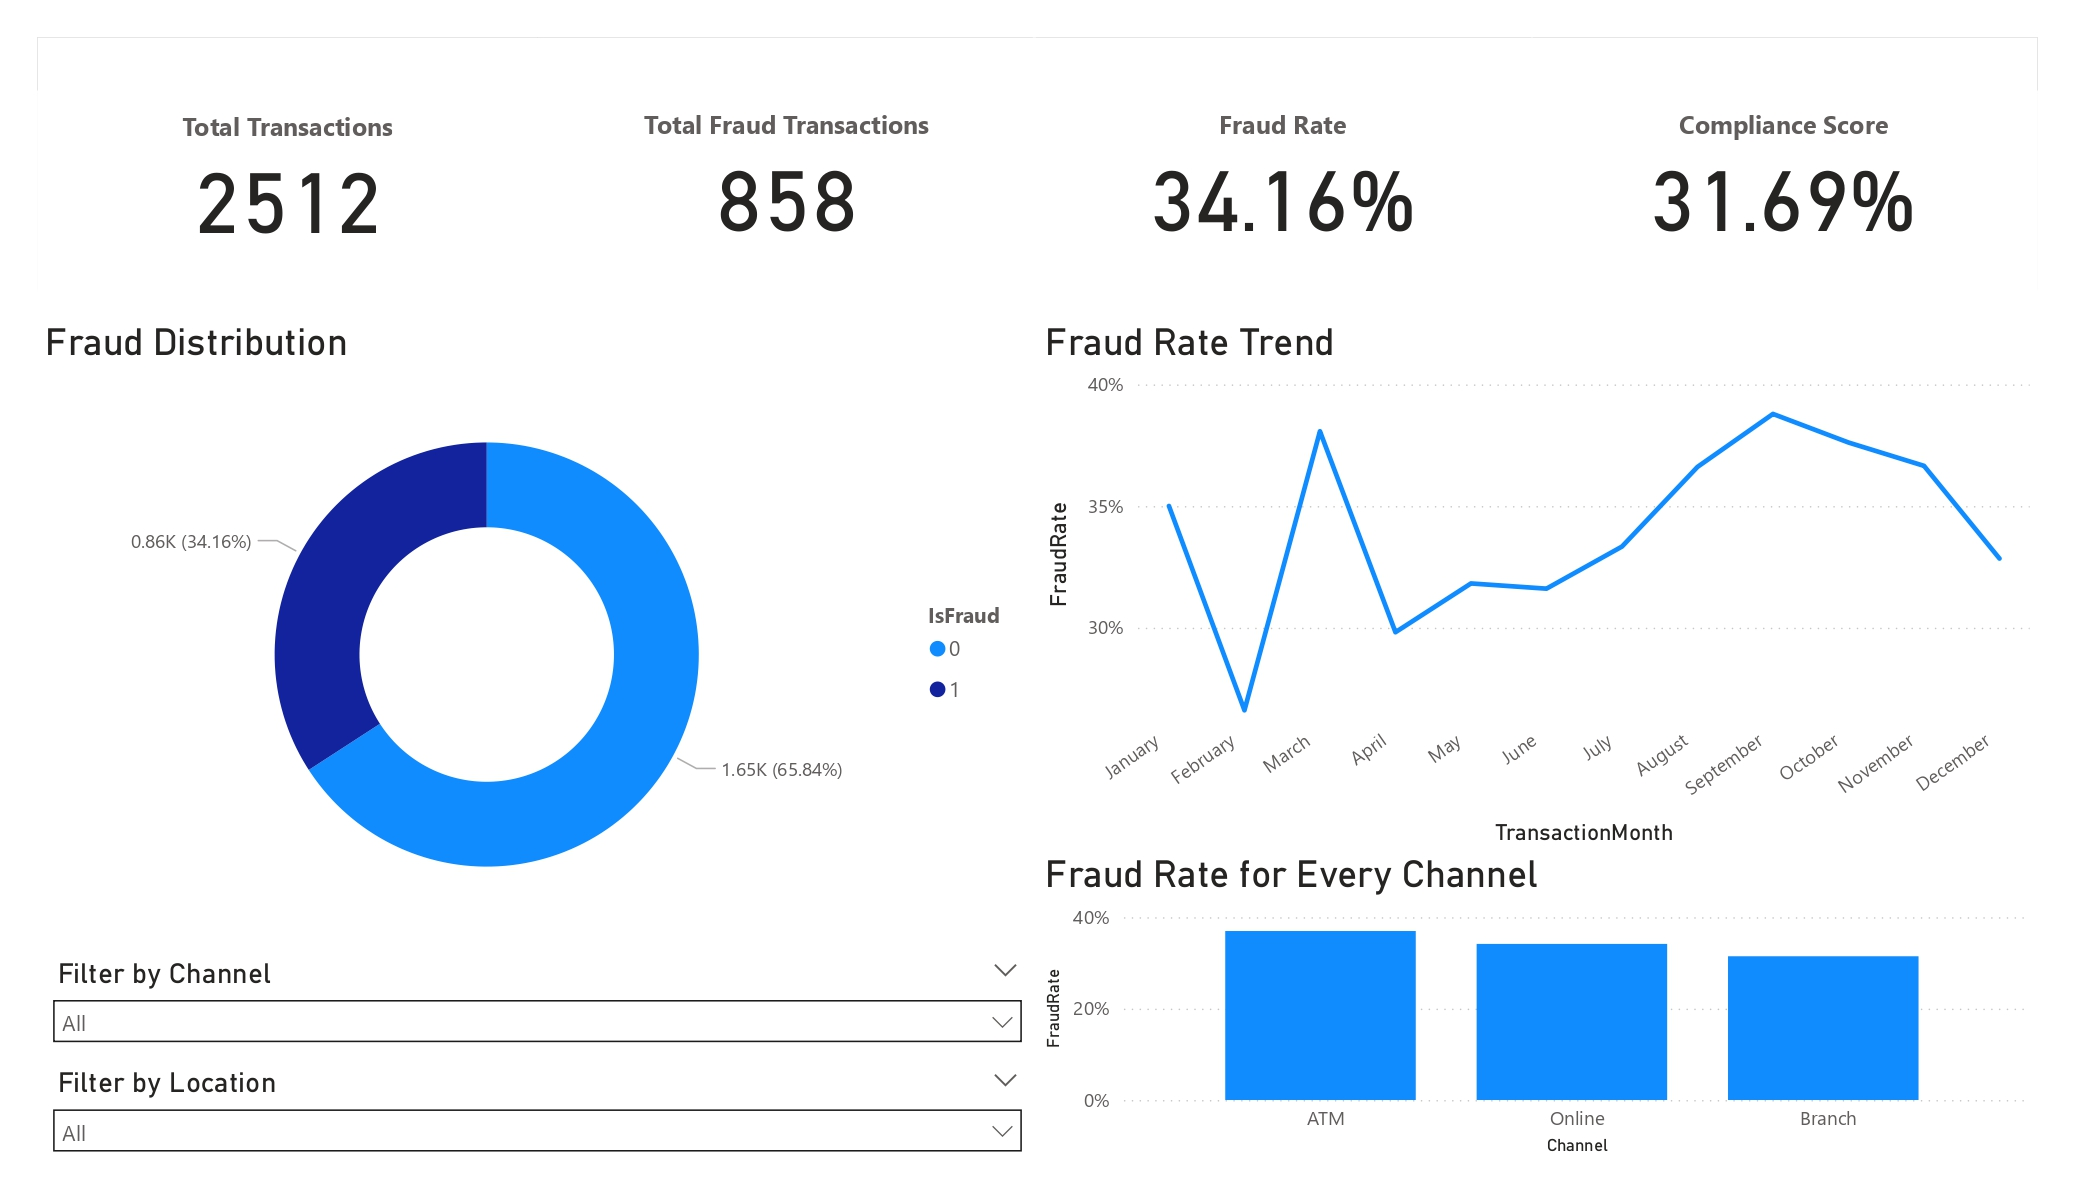

The page's visual inventory and layout, read from the dashboard file:
{"tool":"powerbi","page":{"name":"Executive Overview","canvas":[1280,720],"ordinal":0},"visuals":[{"type":"cardVisual","fields":{"Data":["CountNonNull(Bank_Transactions.TransactionID)"]},"box":[0,0,320.2,181.6],"z":0},{"type":"cardVisual","fields":{"Data":["CountNonNull(Bank_Transactions.FraudType)"]},"box":[320.2,0,319,179.1],"z":1000},{"type":"cardVisual","fields":{"Data":["Bank_Transactions.FraudRate"]},"box":[636.8,0,320.2,179.1],"z":2000},{"type":"cardVisual","fields":{"Data":["Bank_Transactions.Compliance Score"]},"box":[955.8,0,323.9,179.1],"z":3000},{"type":"donutChart","title":"Fraud Distribution","fields":{"Y":["CountNonNull(Bank_Transactions.IsFraud)"],"Category":["Bank_Transactions.IsFraud"]},"box":[0,181.5,639.8,400.9],"z":4000},{"type":"lineChart","title":"Fraud Rate Trend","fields":{"Y":["bank_transactions_data_2.FraudRate"],"Category":["Bank_Transactions.TransactionMonth"]},"box":[639.8,181.5,639.8,340],"z":5000},{"type":"columnChart","title":"Fraud Rate for Every Channel","fields":{"Category":["bank_transactions_data_2.Channel"],"Y":["bank_transactions_data_2.FraudRate"]},"box":[639.8,521.5,639.8,198.7],"z":6000},{"type":"slicer","fields":{"Values":["bank_transactions_data_2.Channel"]},"box":[0,582.6,639.5,66.3],"z":7000},{"type":"slicer","fields":{"Values":["bank_transactions_data_2.Location"]},"box":[0,653.5,639.5,66.3],"z":8000}]}

Visuals, with their boxes in screenshot pixels (x1, y1, x2, y2):
cardVisual - CountNonNull(Bank_Transactions.TransactionID): bbox=(38, 38, 538, 321)
cardVisual - CountNonNull(Bank_Transactions.FraudType): bbox=(538, 38, 1036, 317)
cardVisual - Bank_Transactions.FraudRate: bbox=(1032, 38, 1533, 317)
cardVisual - Bank_Transactions.Compliance Score: bbox=(1531, 38, 2037, 317)
"Fraud Distribution" donutChart: bbox=(38, 321, 1037, 948)
"Fraud Rate Trend" lineChart: bbox=(1037, 321, 2037, 852)
"Fraud Rate for Every Channel" columnChart: bbox=(1037, 852, 2037, 1162)
slicer - bank_transactions_data_2.Channel: bbox=(38, 948, 1037, 1051)
slicer - bank_transactions_data_2.Location: bbox=(38, 1059, 1037, 1162)
